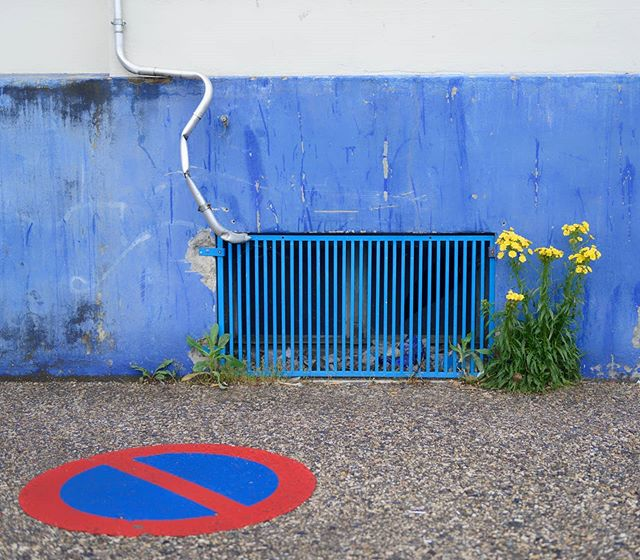sign: (4, 417, 339, 555)
